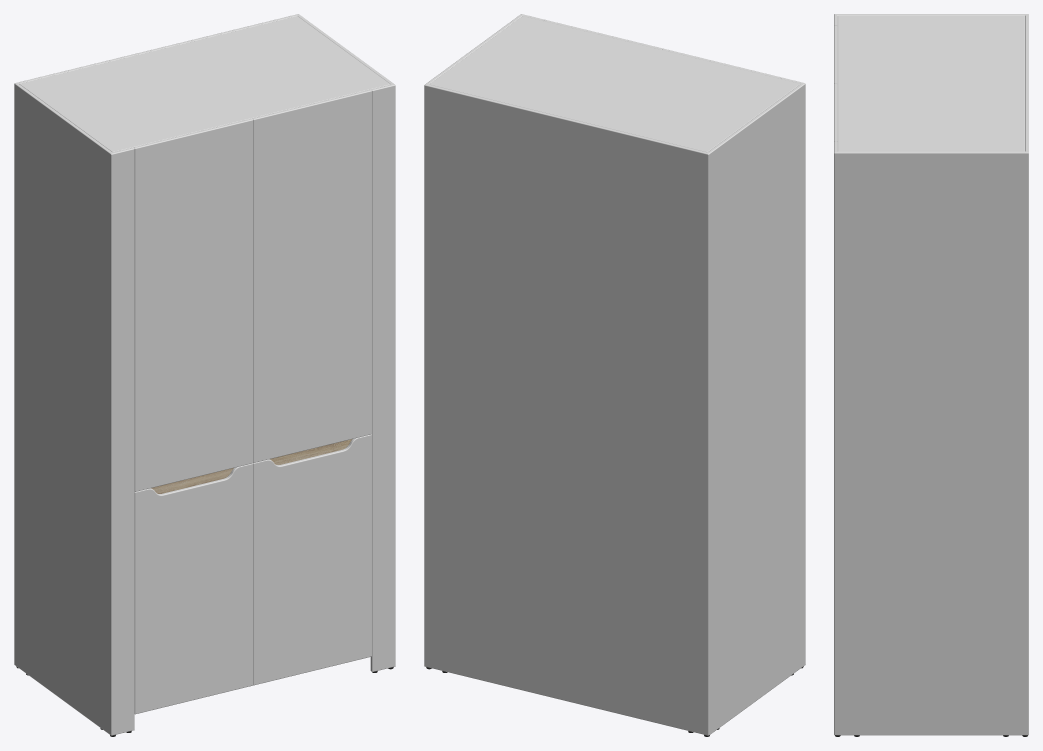
The model's file is cabinet_B07S74K5Y9.glb.
The picture shows the model from 3 angles, left to right: view 1: azimuth 30°, elevation 25°; view 2: azimuth 150°, elevation 25°; view 3: azimuth 270°, elevation 25°; orthographic projection.
Parts seen in each view (by area): view 1: B07S74K5Y9; view 2: B07S74K5Y9; view 3: B07S74K5Y9.
Boxes of the visible parts, left/top/right/bottom form: B07S74K5Y9: left=14, top=14, right=395, bottom=736; B07S74K5Y9: left=424, top=14, right=805, bottom=736; B07S74K5Y9: left=834, top=14, right=1028, bottom=736.
Bounding box in the file's own units: 0.98 × 1.92 × 0.58.
Materials: 1 (1 with a texture image).
